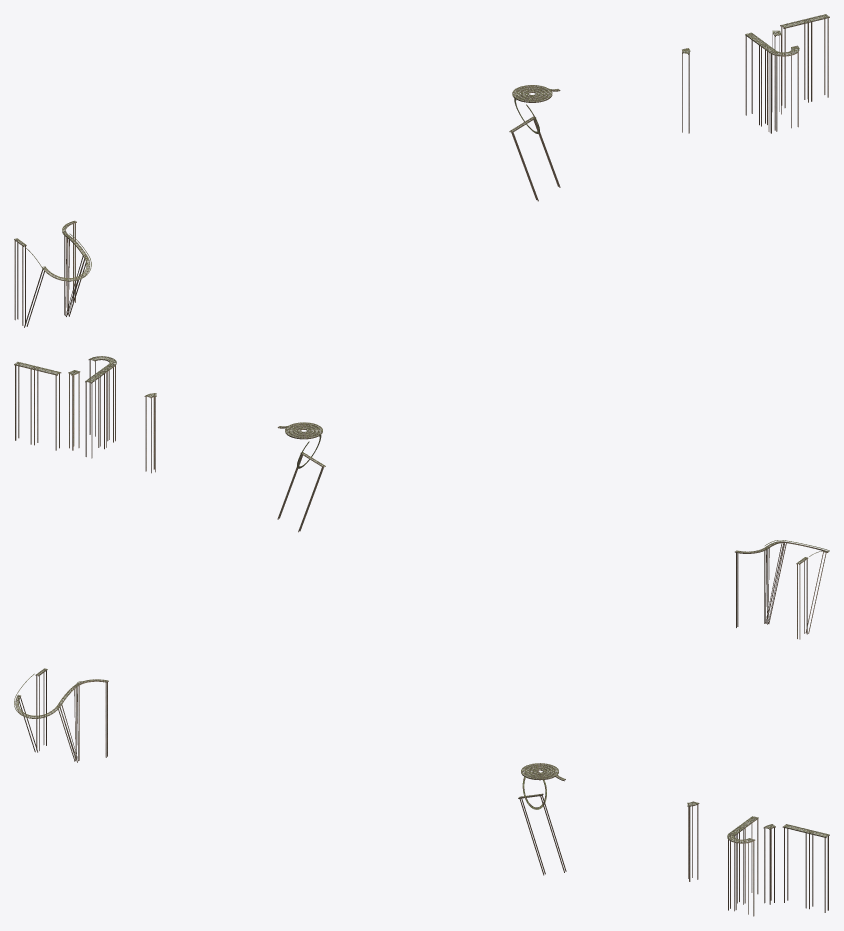
The model's file is boss 6.fbx.
The picture shows the model from 3 angles, top to bottom: view 1: azimuth 30°, elevation 25°; view 2: azimuth 150°, elevation 25°; view 3: azimuth 330°, elevation 25°; orthographic projection. The views are drawn at different scales.
Visible parts, largest first — view 1: RAMP.005, RAMP.004, Ramp.005, Ramp.008, RAMP.020, RAMP.006, Ramp.003; view 2: RAMP.005, RAMP.006, Ramp.005, Ramp.003, RAMP.020; view 3: RAMP.005, RAMP.006, RAMP.021, Ramp.005, Ramp.003, RAMP.020, RAMP.004, RAMP.014, RAMP.002, Ramp.008.
Part boxes in pixels (left/top/right/bottom): RAMP.005: left=780, top=14, right=829, bottom=107; RAMP.004: left=770, top=45, right=799, bottom=133; Ramp.005: left=24, top=256, right=90, bottom=327; Ramp.008: left=14, top=238, right=26, bottom=325; RAMP.020: left=512, top=85, right=552, bottom=102; RAMP.006: left=745, top=32, right=766, bottom=125; Ramp.003: left=62, top=220, right=76, bottom=315; RAMP.005: left=14, top=361, right=61, bottom=450; RAMP.006: left=85, top=371, right=105, bottom=458; Ramp.005: left=766, top=541, right=828, bottom=633; Ramp.003: left=735, top=547, right=768, bottom=627; RAMP.020: left=285, top=422, right=322, bottom=439; RAMP.005: left=782, top=824, right=829, bottom=912; RAMP.006: left=738, top=816, right=758, bottom=903; RAMP.021: left=518, top=793, right=566, bottom=875; Ramp.005: left=15, top=694, right=77, bottom=762; Ramp.003: left=76, top=679, right=108, bottom=760; RAMP.020: left=521, top=763, right=558, bottom=780; RAMP.004: left=727, top=833, right=755, bottom=916; RAMP.014: left=687, top=801, right=699, bottom=881; RAMP.002: left=763, top=824, right=775, bottom=904; Ramp.008: left=35, top=668, right=47, bottom=750.
Bounding box in the file's own units: 24881 × 3179 × 2839.
